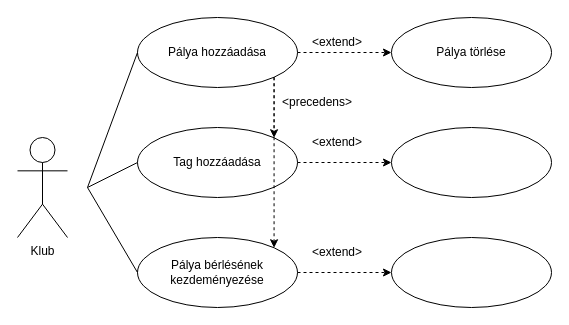
Image size: 569x325. Some labels were removed from this diagram. The shapes that lost their labels are listed below. From the top down, each one's centre as x and y in pixels, then its label:
[471,162]: Tag törlése
[471,272]: Pálya bérlésének lemondásának kezdeményezése
